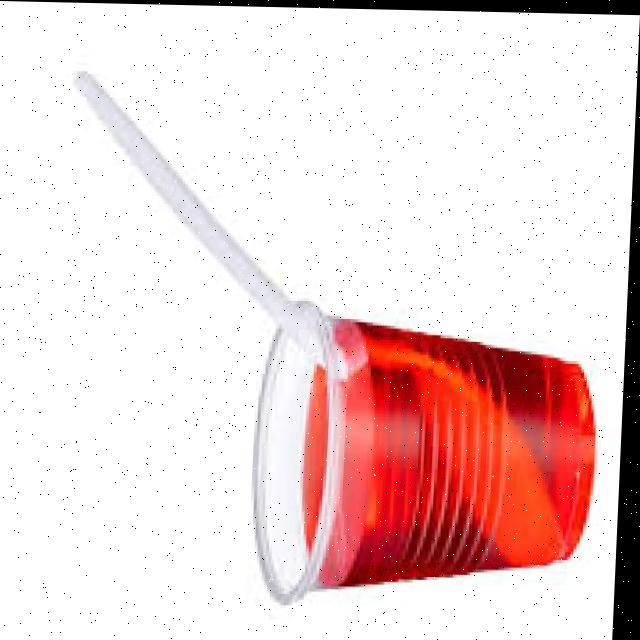cup: (231, 291, 624, 610)
